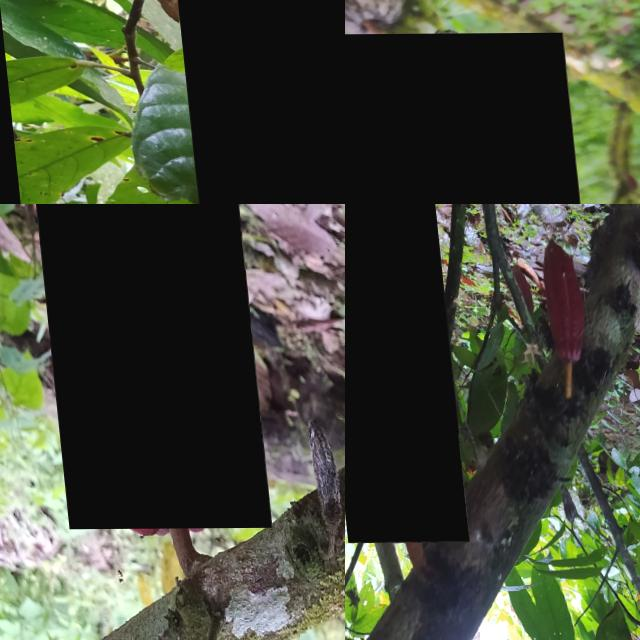Fitoftora: (345, 33, 601, 204), (345, 204, 460, 543), (160, 0, 345, 204), (296, 422, 333, 529)
Sana: (16, 204, 261, 529), (535, 240, 583, 362)
